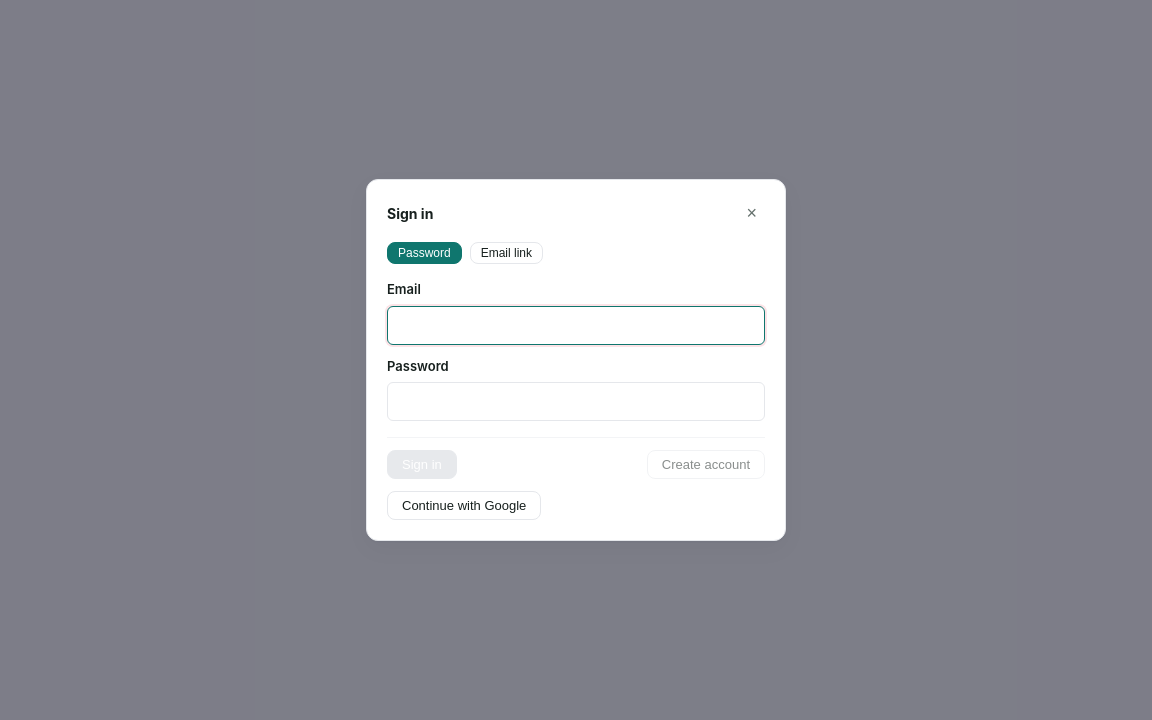
Test: AuthModal › explains email verification without pretending an unauthenticated signup is signed in
In the field with test id "site-auth-email": (576, 325) 387,306 -> 765,344, type "new@example.com"
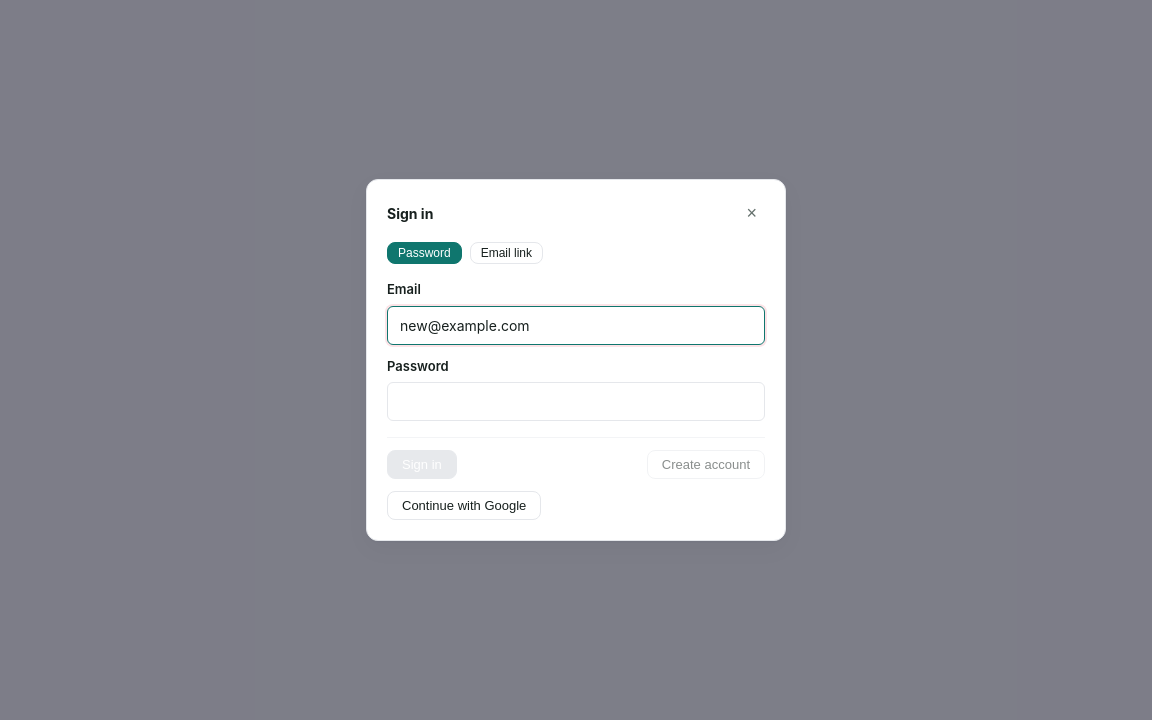
In the password field with test id "site-auth-password": (576, 402) 387,382 -> 765,421, type "safe-password"
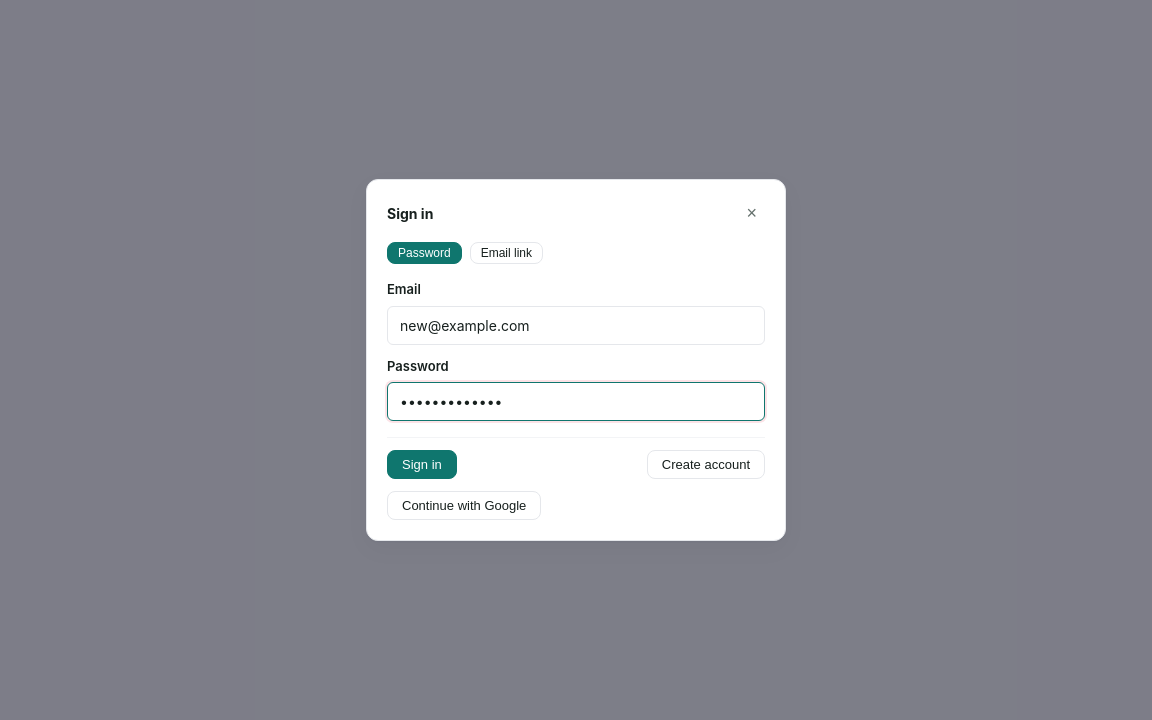
Click the button "Create account": (706, 464) 647,450 -> 765,479
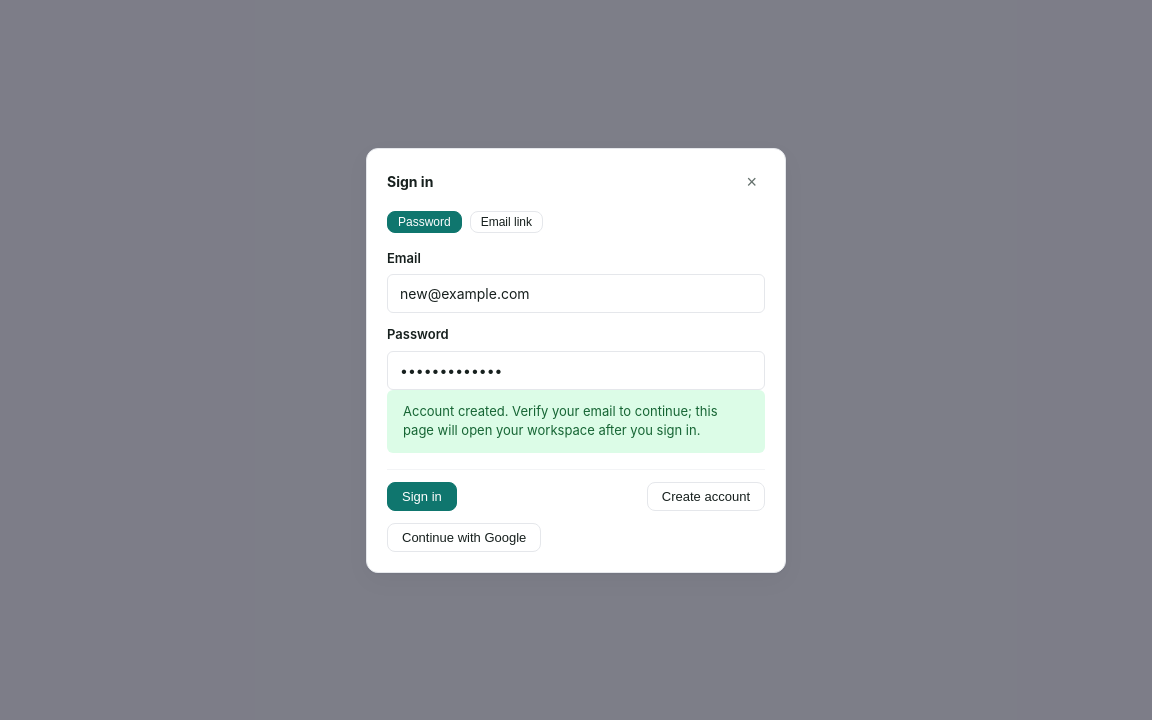
Expected: the text "Verify your email to continue" is shown, 403,402 -> 718,438
